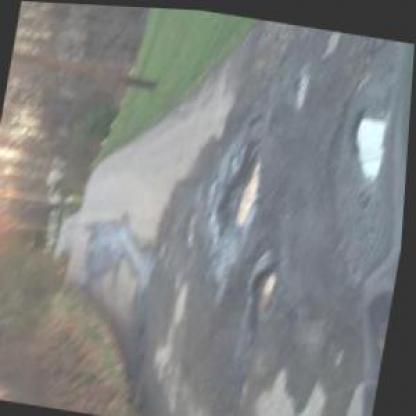pothole: (212, 136, 268, 237), (341, 100, 395, 182), (361, 280, 395, 369), (246, 258, 286, 327), (287, 64, 309, 105)
